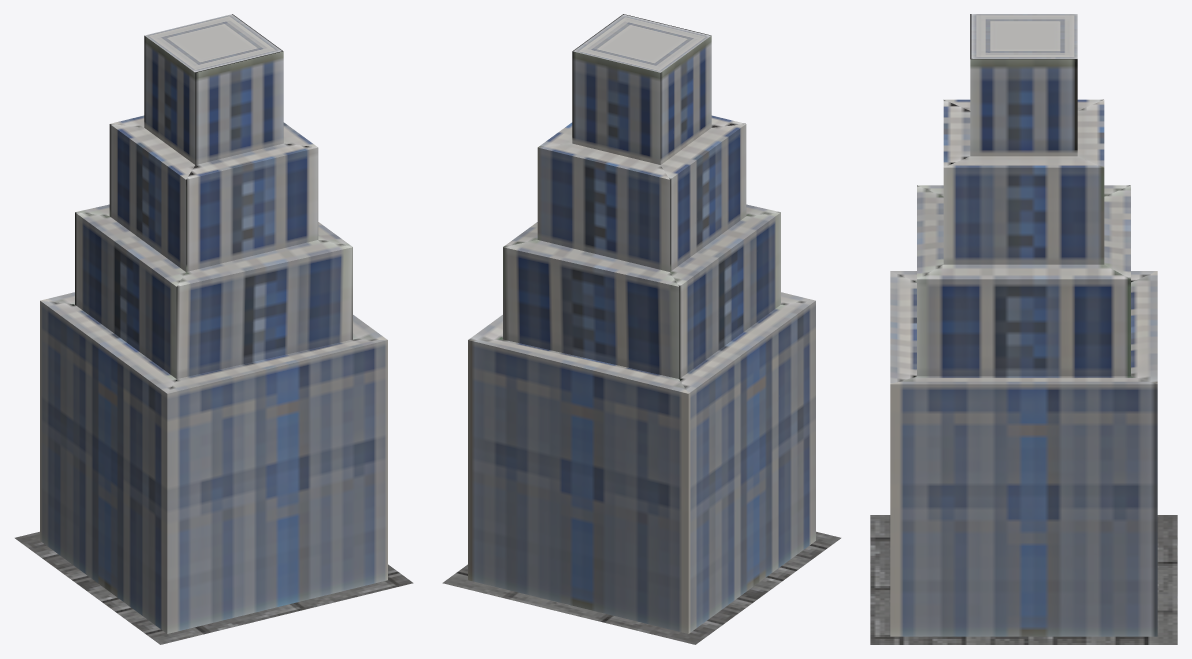
The model's file is Skyscraper_04.obj.
The picture shows the model from 3 angles, left to right: view 1: azimuth 30°, elevation 25°; view 2: azimuth 150°, elevation 25°; view 3: azimuth 270°, elevation 25°; orthographic projection. The views are drawn at different scales.
Parts seen in each view (by area): view 1: Box004, Tile; view 2: Box004, Tile; view 3: Box004, Tile.
Boxes of the visible parts, left/top/right/bottom form: Box004: left=40, top=14, right=387, bottom=633; Tile: left=15, top=531, right=413, bottom=644; Box004: left=468, top=14, right=815, bottom=633; Tile: left=442, top=531, right=840, bottom=644; Box004: left=890, top=14, right=1157, bottom=636; Tile: left=870, top=515, right=1177, bottom=644.
Size of the model in its own units: 128 by 250 by 128.
